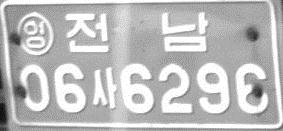0: (19, 63, 50, 113)
2: (157, 63, 192, 113)
6: (234, 62, 269, 115), (119, 62, 154, 114), (53, 62, 86, 113)
9: (195, 62, 230, 114)
사: (91, 67, 117, 110)
영: (15, 12, 54, 56)
전남_D: (63, 10, 208, 55)
